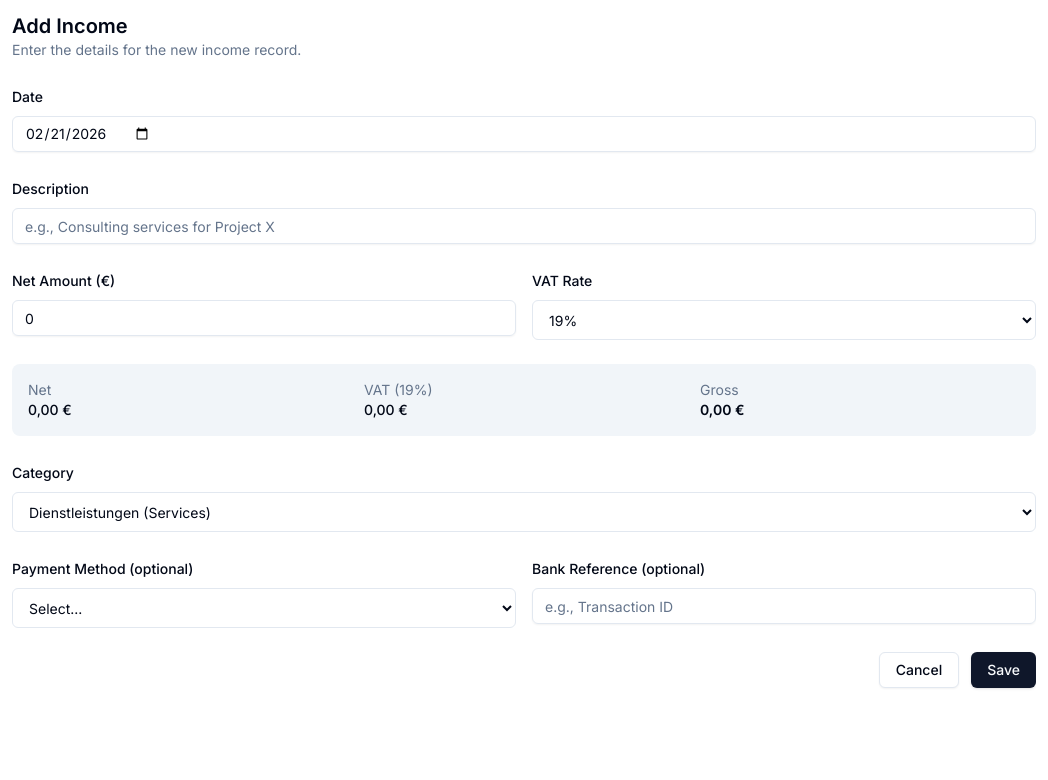
Scenario: IncomeForm › validation › shows error for empty description
Click the button "Save".
click(1004, 670)  # box 971,652 -> 1036,688
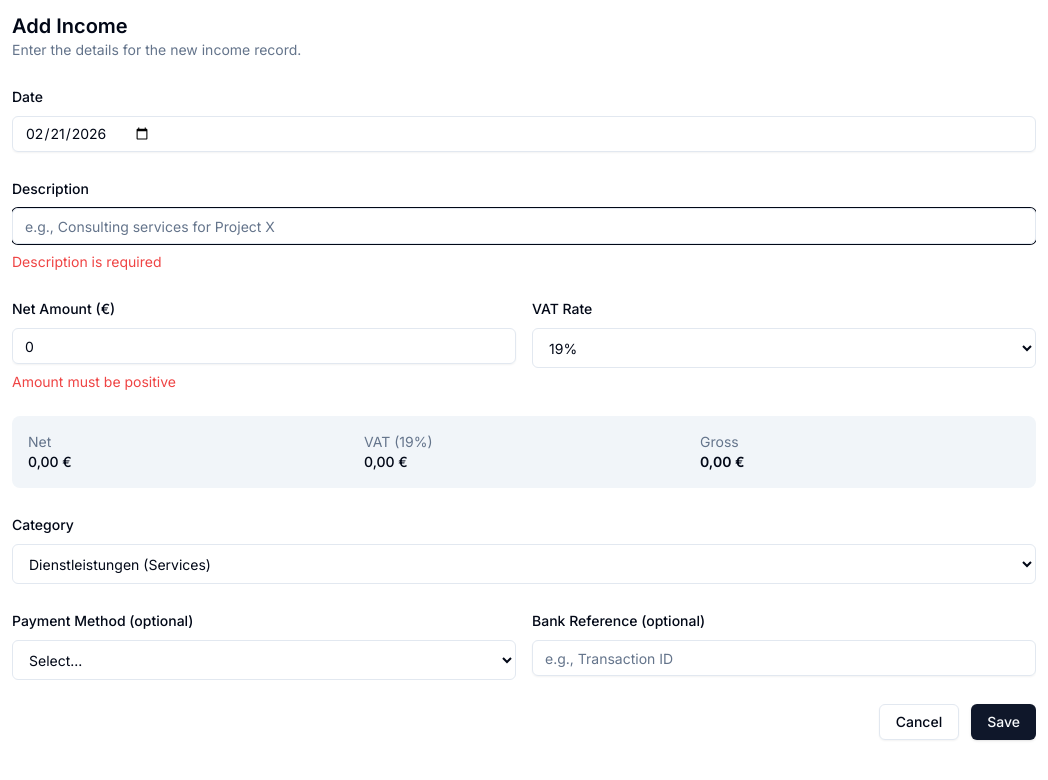
Expected: the text "Description is required" is shown, 12,253 -> 162,270
